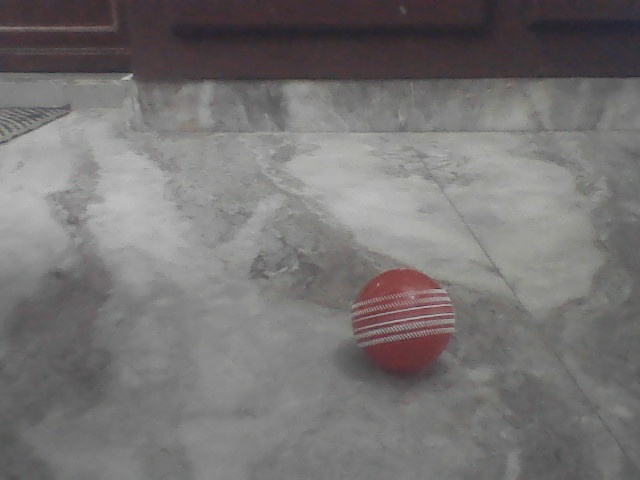cricket_ball: (346, 266, 463, 374)
